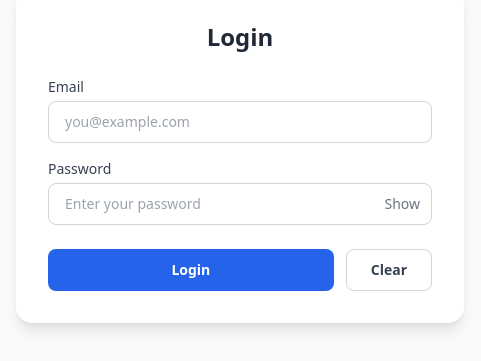
Test case: LoginForm › shows error for invalid email format
This screenshot has width=481, height=361.
In the field labelled "Email": (240, 122) [48, 101, 432, 143], type "not-an-email"
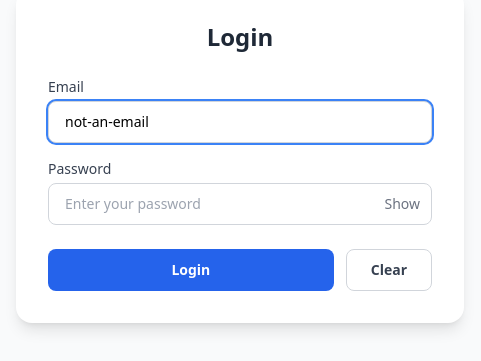
In the password field labelled "Password": (240, 204) [48, 183, 432, 225], type "password123"
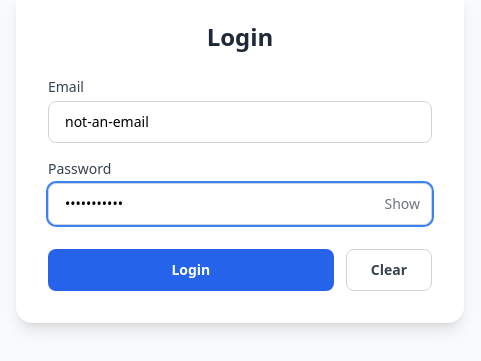
Click the button "Login": (191, 270) [48, 249, 334, 291]
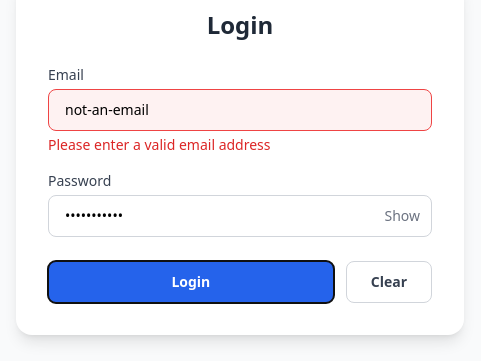
Check: the text "Please enter a valid email address" is shown, box [48, 135, 270, 154]
